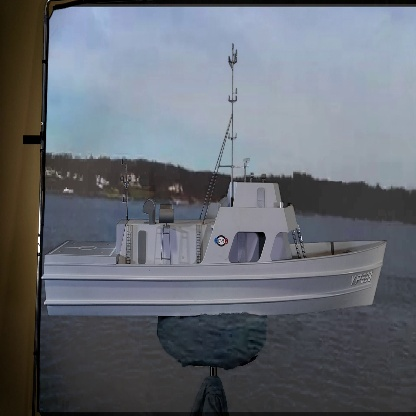YP689: (43, 42, 386, 319)
